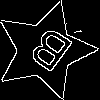B: (20, 25, 76, 82)
